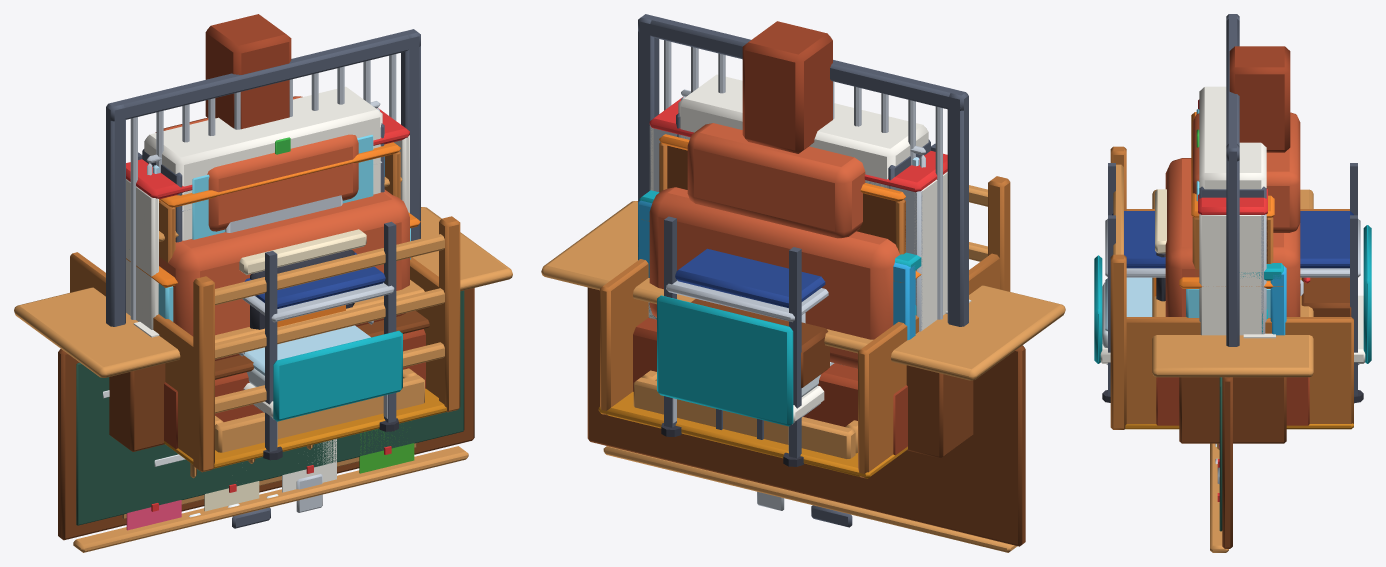
Rendered from facility-props.glb.
3 renders of one model, left to right at view 1: azimuth 30°, elevation 25°; view 2: azimuth 150°, elevation 25°; view 3: azimuth 270°, elevation 25°, orthographic. The views are drawn at different scales.
Parts seen in each view (by area): view 1: fp_oven, fp_blackboard, fp_stall, fp_cellbars, fp_meetingtable, fp_medcabinet, fp_hospitalbed, fp_cellbed, fp_shelf, fp_hiringboard, fp_sandbox, fp_breadshelf (+4 smaller); view 2: fp_oven, fp_blackboard, fp_stall, fp_meetingtable, fp_cellbars, fp_hospitalbed, fp_cellbed, fp_medcabinet, fp_shelf, fp_sandbox, fp_breadshelf, fp_chiller (+2 smaller); view 3: fp_oven, fp_stall, fp_meetingtable, fp_cellbed, fp_shelf, fp_medcabinet, fp_hospitalbed, fp_cellbars, fp_blackboard, fp_chiller, fp_breadshelf, fp_cakecase (+1 smaller).
Boxes of the visible parts, box(x1,y1,x2,y2) form: fp_oven: box(155, 14, 429, 448); fp_blackboard: box(58, 288, 474, 552); fp_stall: box(70, 216, 460, 472); fp_cellbars: box(106, 29, 420, 326); fp_meetingtable: box(14, 207, 512, 451); fp_medcabinet: box(144, 86, 382, 240); fp_hospitalbed: box(239, 321, 402, 460); fp_cellbed: box(138, 152, 396, 451); fp_shelf: box(126, 108, 409, 329); fp_hiringboard: box(122, 429, 416, 530); fp_sandbox: box(215, 368, 424, 452); fp_breadshelf: box(159, 142, 400, 270); fp_oven: box(633, 21, 907, 455); fp_blackboard: box(587, 287, 1025, 552); fp_stall: box(598, 176, 1010, 478); fp_meetingtable: box(541, 201, 1065, 458); fp_cellbars: box(638, 14, 968, 326); fp_hospitalbed: box(657, 295, 834, 466); fp_cellbed: box(664, 143, 935, 458); fp_medcabinet: box(678, 74, 928, 187); fp_shelf: box(649, 97, 947, 331); fp_sandbox: box(633, 370, 857, 458); fp_breadshelf: box(659, 134, 905, 254); fp_chiller: box(638, 190, 921, 340); fp_oven: box(1154, 46, 1309, 425); fp_stall: box(1110, 146, 1353, 429); fp_meetingtable: box(1152, 189, 1313, 443); fp_cellbed: box(1105, 163, 1360, 395); fp_shelf: box(1198, 99, 1267, 335); fp_medcabinet: box(1196, 86, 1266, 201); fp_hospitalbed: box(1094, 225, 1371, 403); fp_cellbars: box(1226, 14, 1239, 346); fp_blackboard: box(1210, 377, 1232, 552); fp_chiller: box(1241, 263, 1286, 335); fp_breadshelf: box(1191, 112, 1274, 277); fp_cakecase: box(1179, 277, 1282, 317).
Size of the model in its own units: 3.2 by 3.5 by 2.06.
